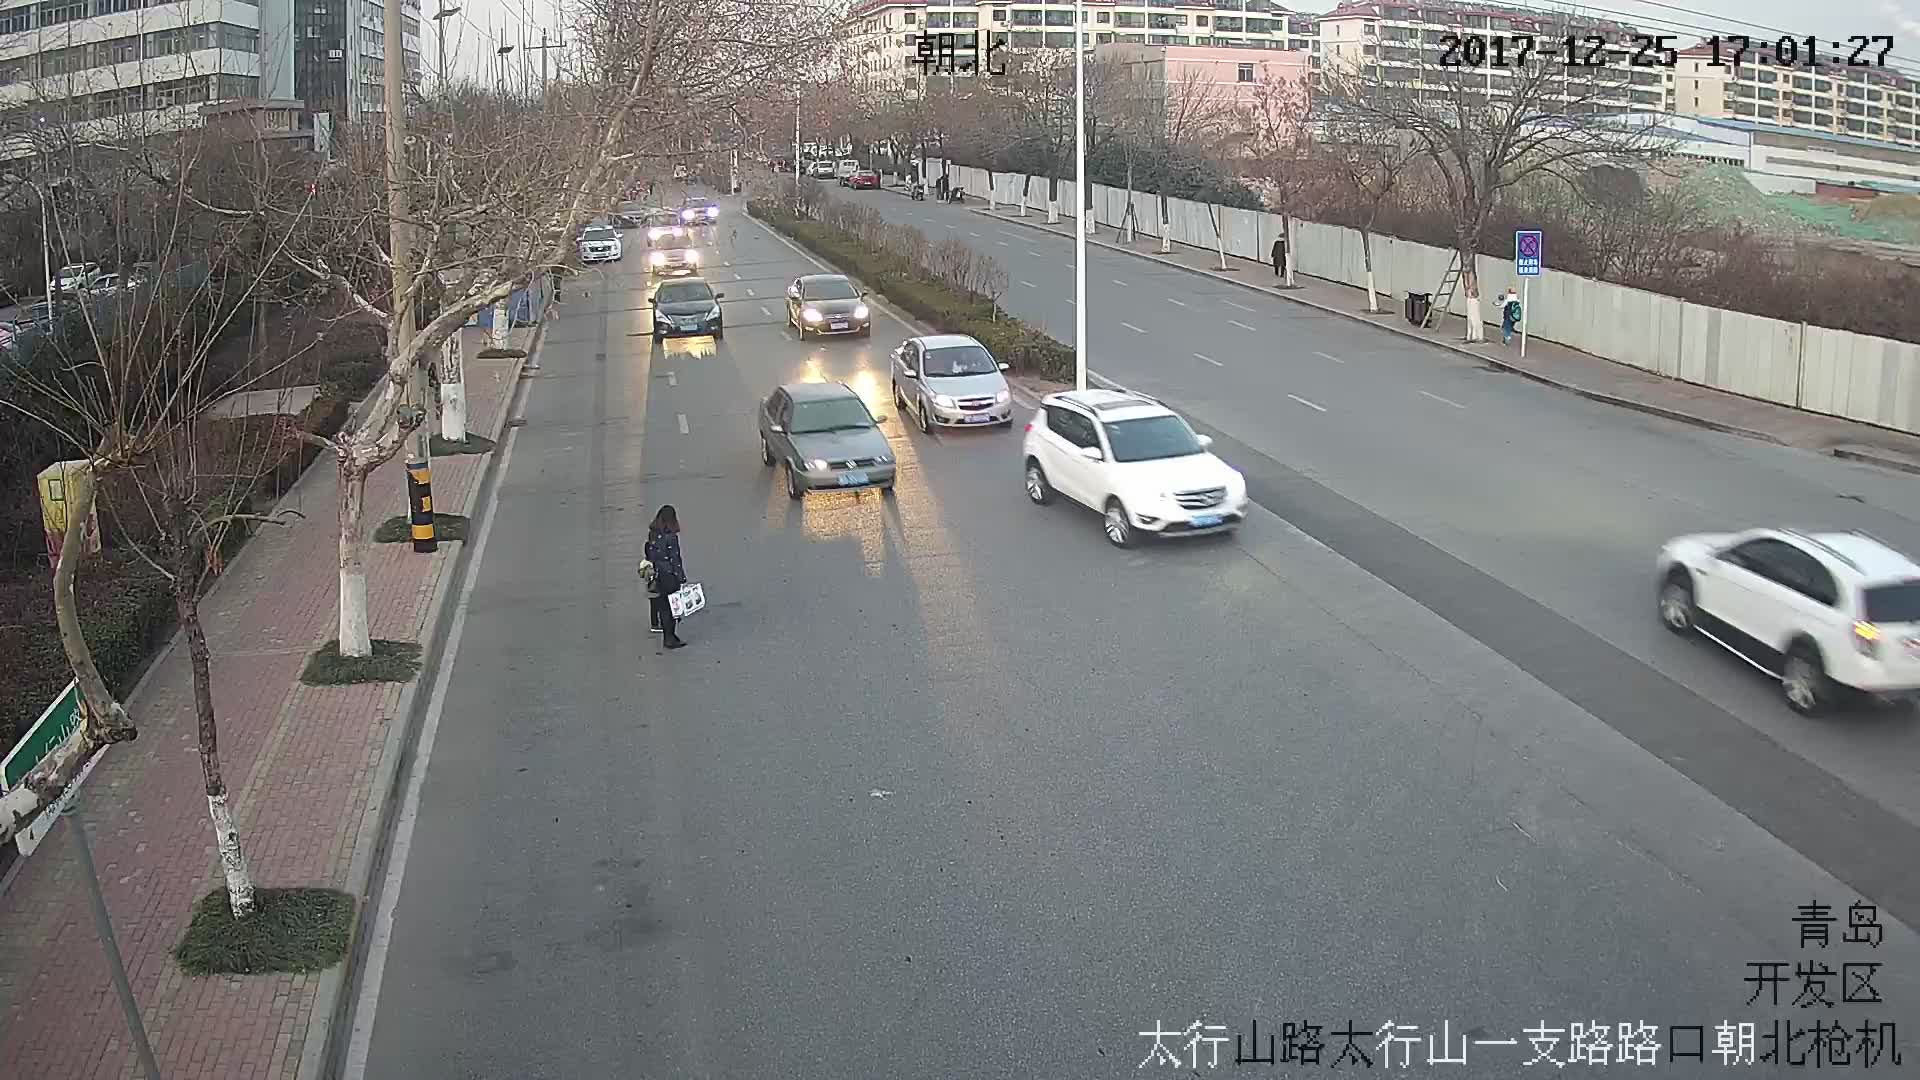car: (1021, 392, 1249, 546), (760, 382, 900, 494), (887, 337, 1018, 432), (782, 277, 875, 334), (648, 280, 723, 341), (578, 227, 621, 260)
person: (641, 503, 699, 648), (1495, 287, 1523, 345), (1274, 232, 1288, 275)
